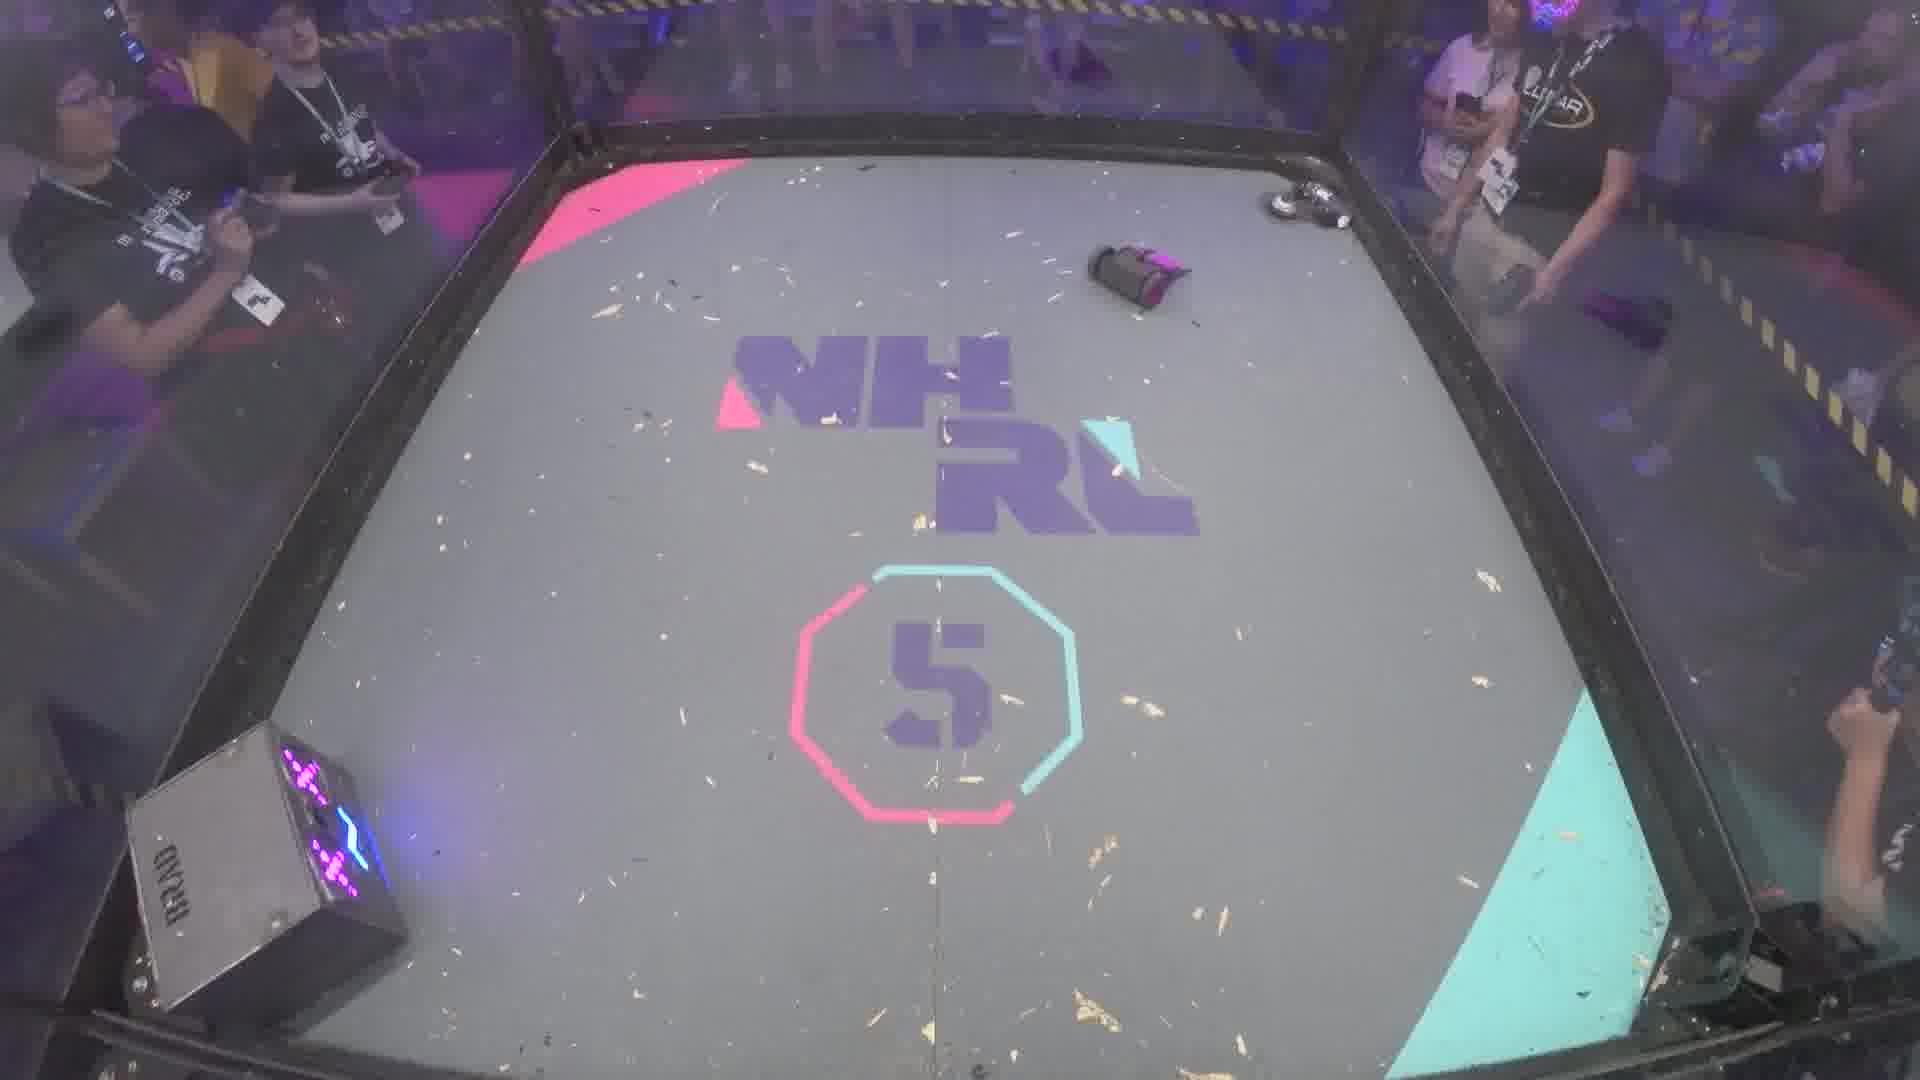combatbot: (1085, 243, 1191, 311), (1259, 178, 1356, 231)
housebot: (120, 717, 411, 1019)
